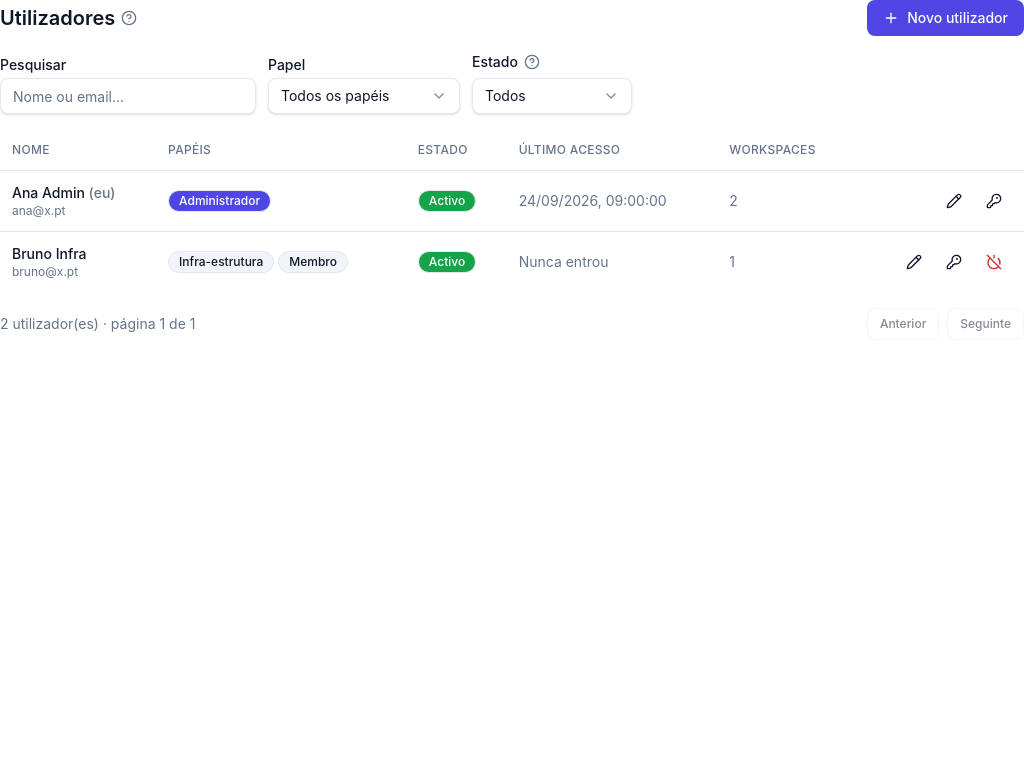
it: Gestão de utilizadores › desactiva outro utilizador depois de confirmar e mostra as salvaguardas da API
Click the button named "Desactivar Bruno Infra" at (994, 262), box left=976, top=244, right=1012, bottom=280
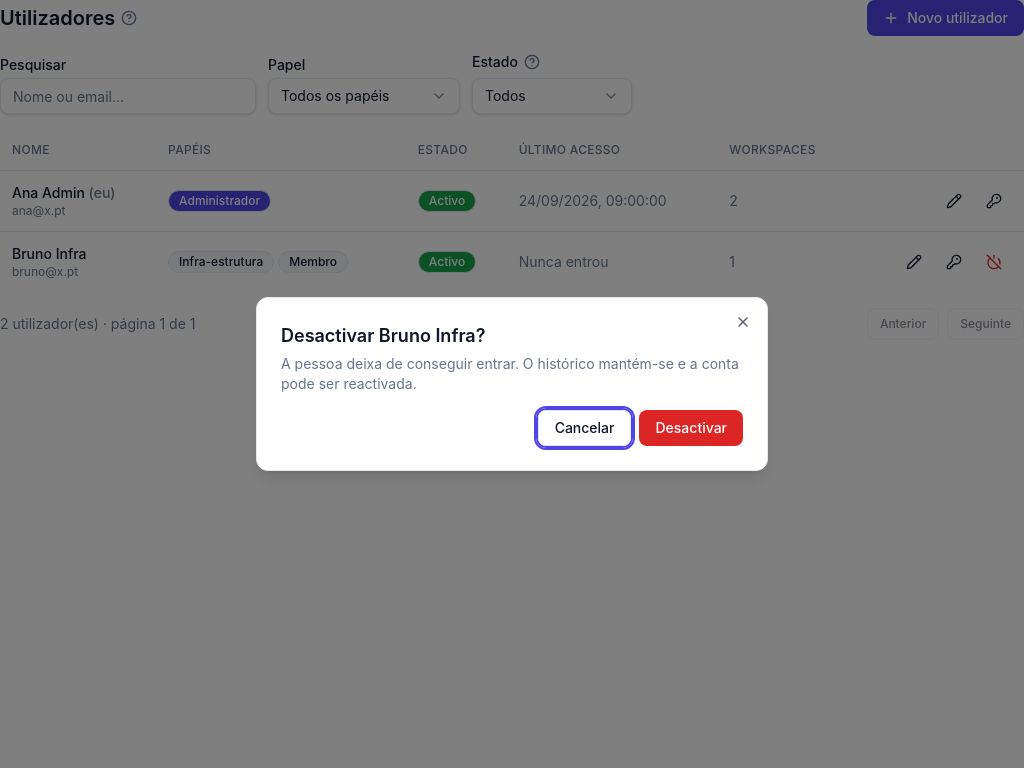
Click the button "Desactivar" at (691, 428), box left=640, top=410, right=743, bottom=446
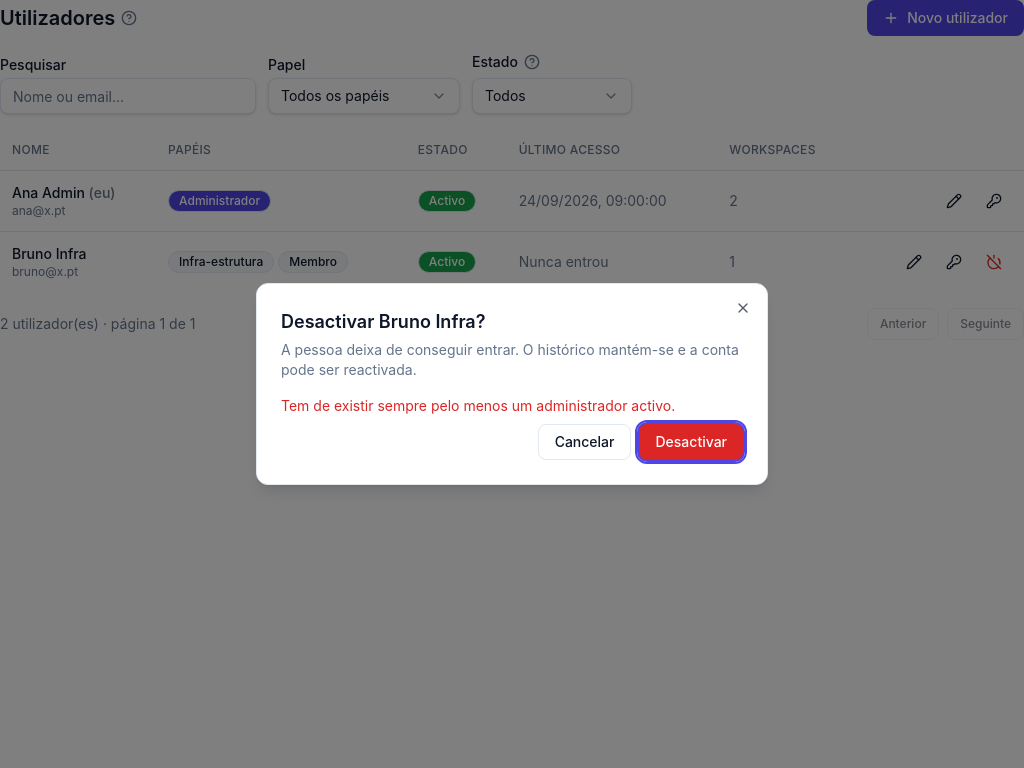
Expected: the text "Tem de existir sempre pelo menos um administrador activo." is shown, left=281, top=396, right=743, bottom=416
Click the button "Desactivar" at (691, 442), box left=640, top=424, right=743, bottom=460
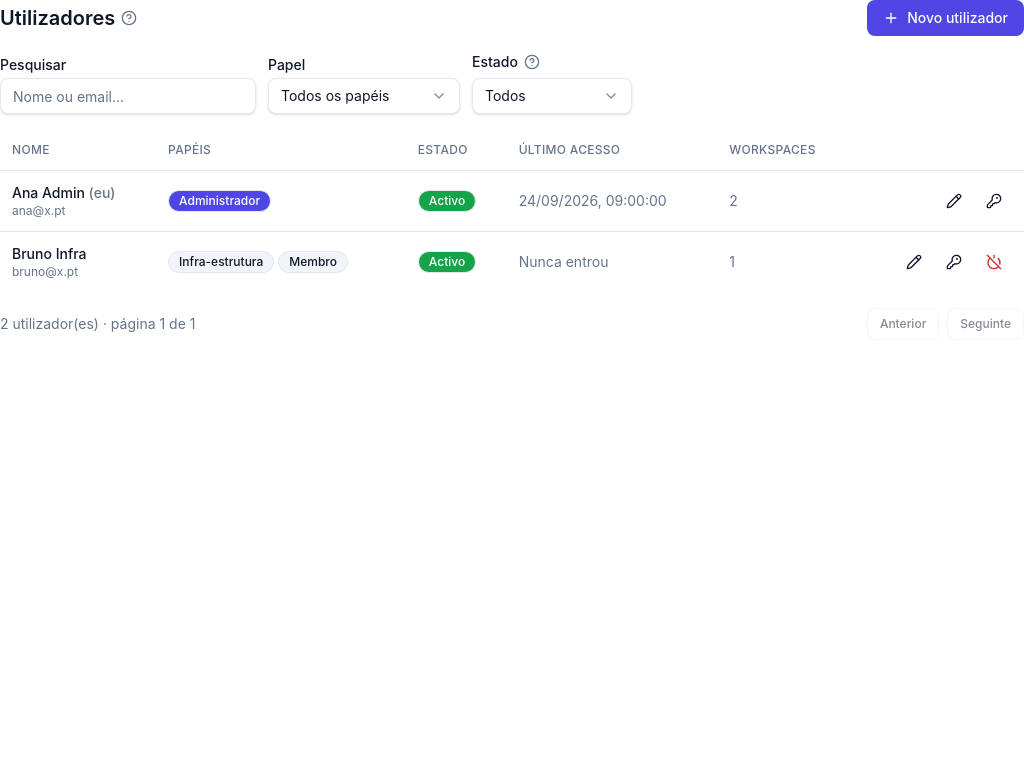
Expected: the dialog is gone
